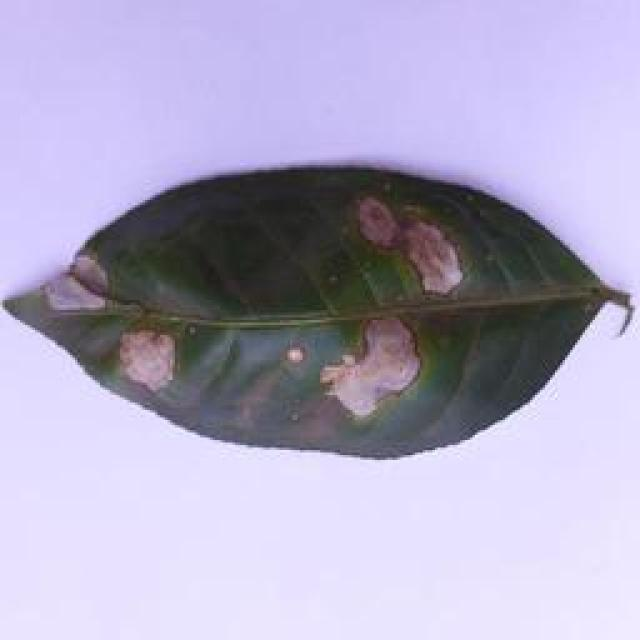Gray Blight: (0, 161, 636, 466)
